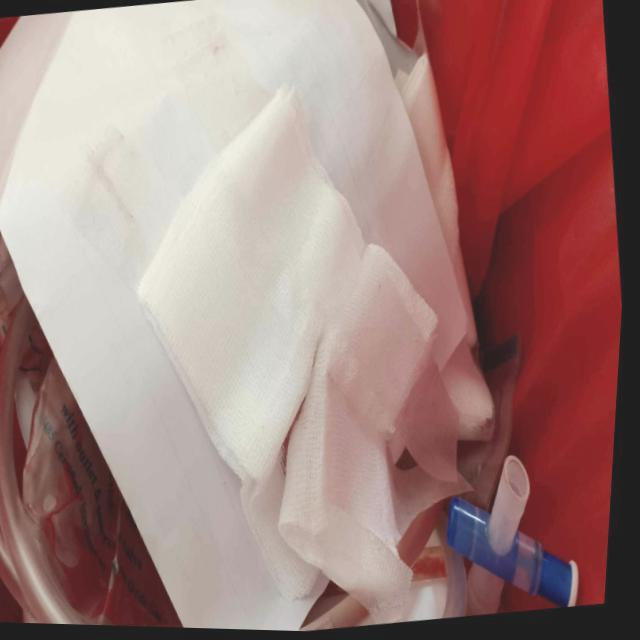General: (389, 0, 623, 609), (1, 235, 185, 627)
Pathological: (3, 2, 502, 628)
Sharps: (445, 494, 581, 608)
